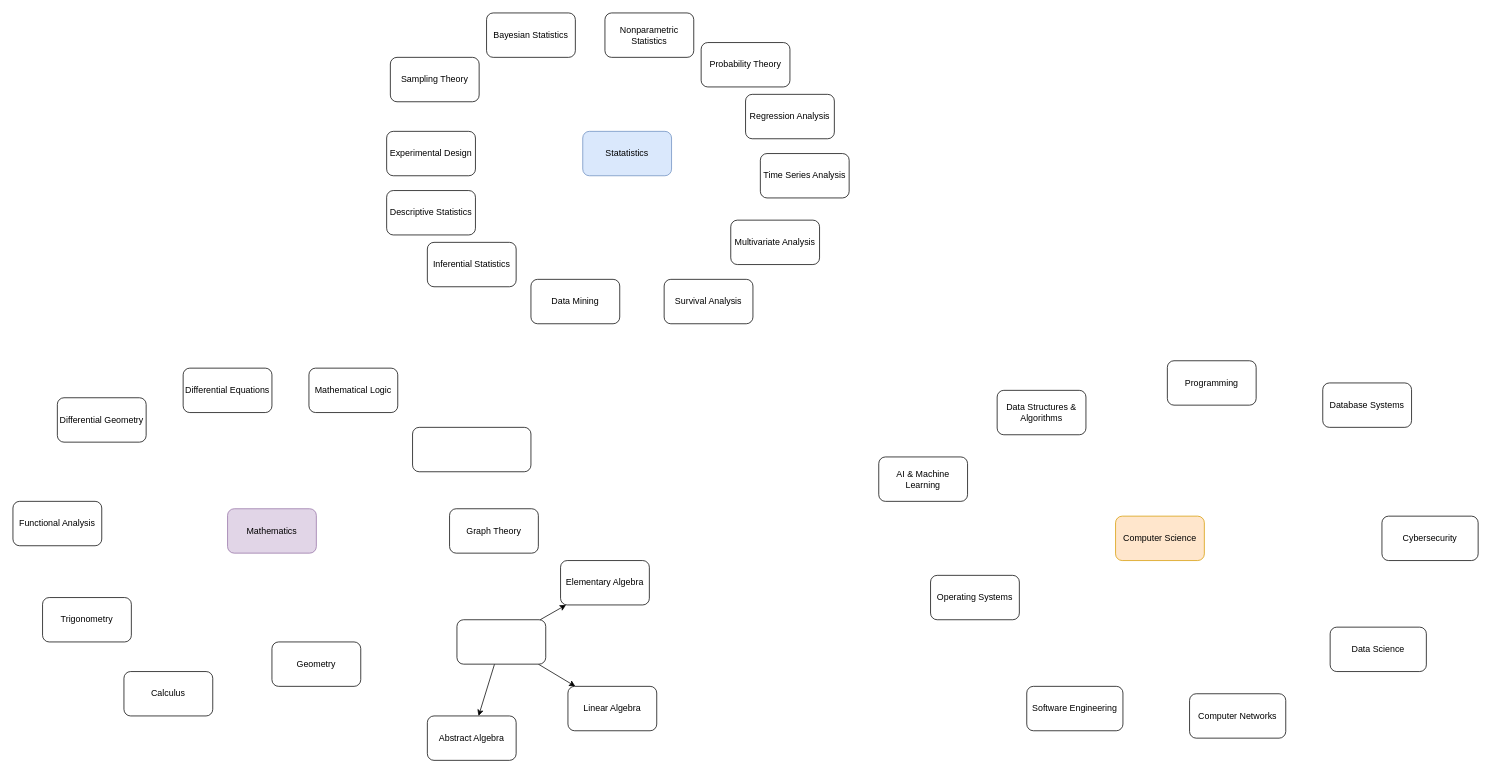
This 1491x773 diagram has some shape labels left out. The centre of each missing label's shape, as x and y in pixels:
"Algebra" belongs at pixel 501 641.
"Discrete Mathematics" belongs at pixel 471 449.
